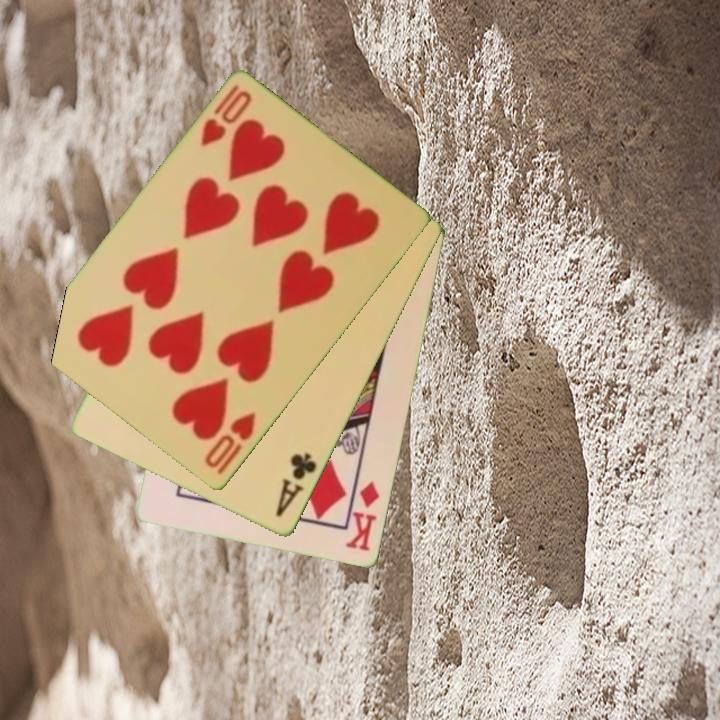10h: (201, 409, 259, 479), (197, 81, 255, 151)
Ac: (272, 449, 320, 520)
Kd: (342, 478, 383, 555)
